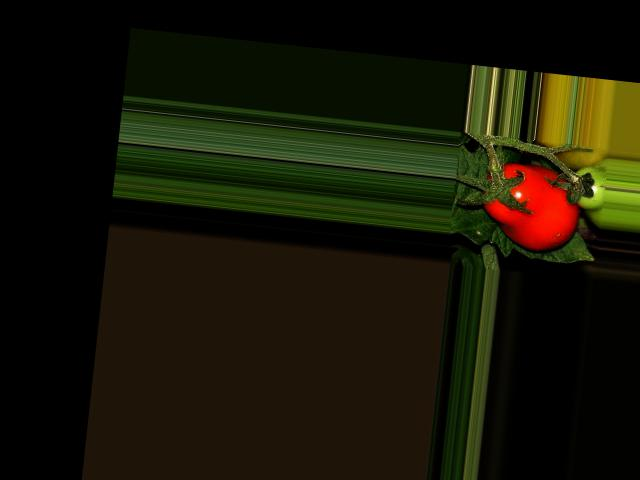tomato: (477, 160, 583, 255)
